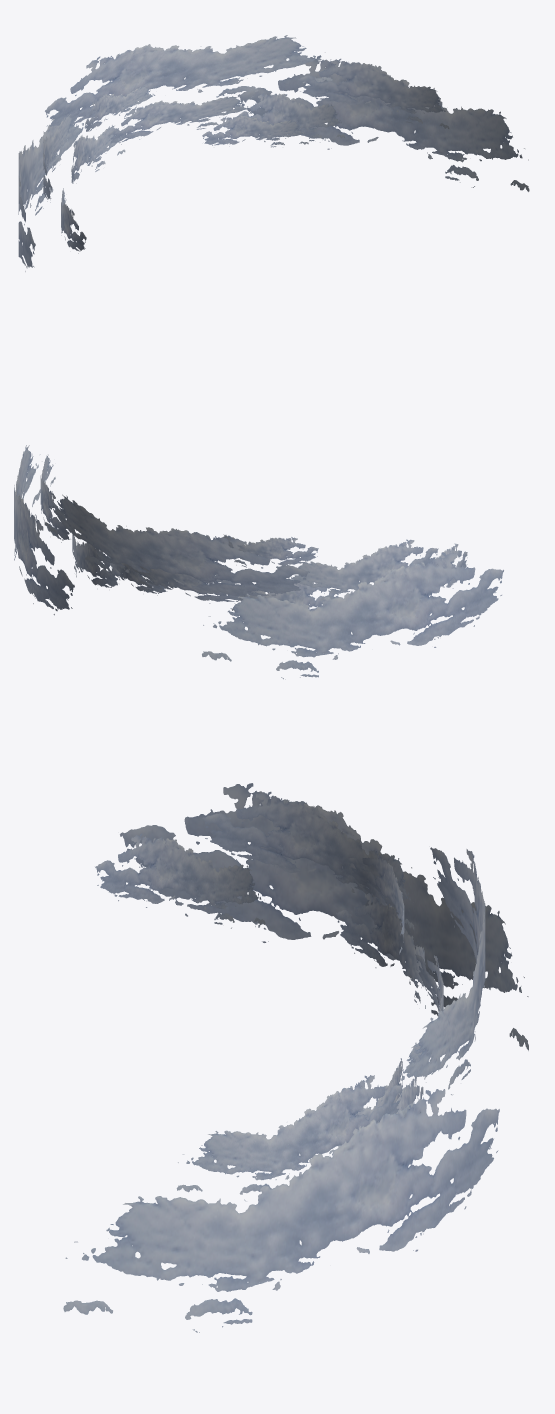
File: OuterClouds.FBX
3 renders of one model, top to bottom at view 1: azimuth 30°, elevation 25°; view 2: azimuth 150°, elevation 25°; view 3: azimuth 270°, elevation 25°, orthographic. The views are drawn at different scales.
Parts seen in each view (by area): view 1: Nuages; view 2: Nuages; view 3: Nuages.
Part boxes in pixels (x1=…): Nuages: x1=18, y1=35, x2=529, y2=271; Nuages: x1=14, y1=445, x2=503, y2=679; Nuages: x1=63, y1=783, x2=528, y2=1332.
Size of the model in its own units: 67.55 by 24.15 by 37.82.
Materials: 1 (1 with a texture image).
